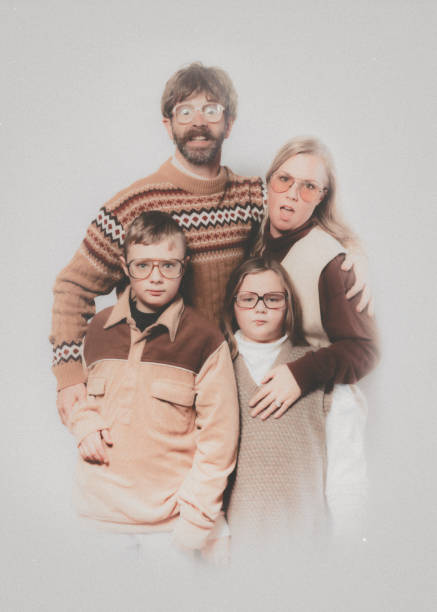without mask: (161, 78, 240, 164), (252, 144, 331, 230), (229, 258, 308, 344), (114, 223, 193, 309)
